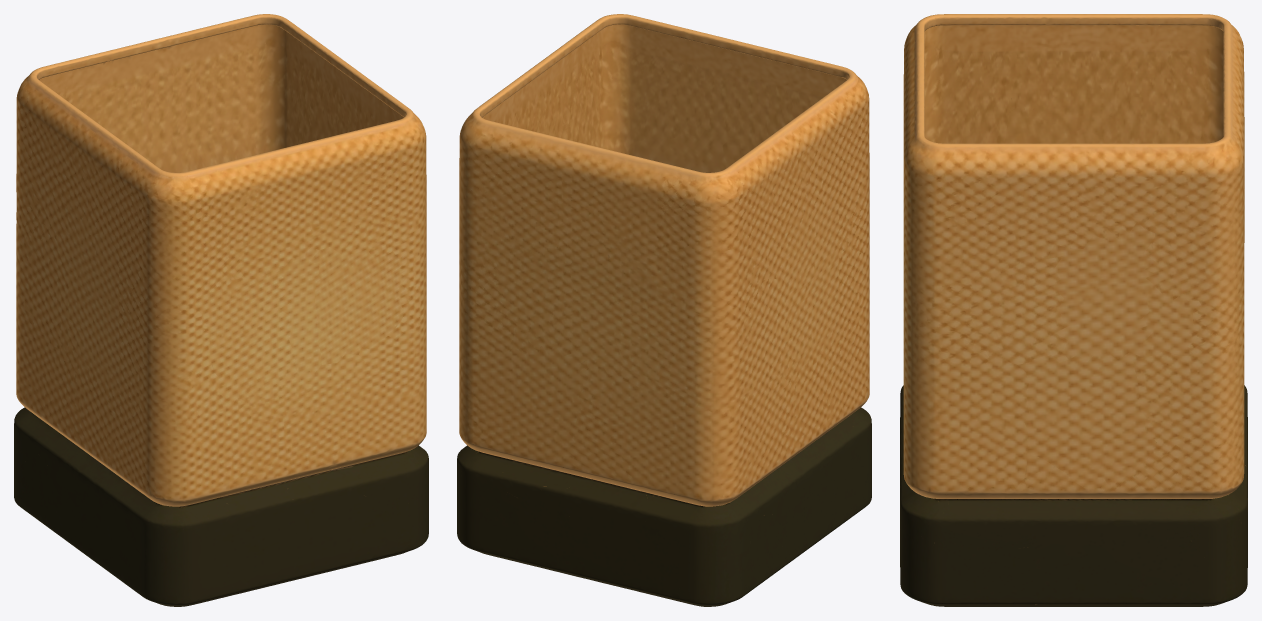
The model's file is Meshy_AI_Woven_Glow_Lamp_1110124043_texture.glb.
3 renders of one model, left to right at view 1: azimuth 30°, elevation 25°; view 2: azimuth 150°, elevation 25°; view 3: azimuth 270°, elevation 25°, orthographic. The views are drawn at different scales.
Bounding box in the file's own units: 1.3 × 1.9 × 1.3.
Materials: 1 (1 with a texture image).
